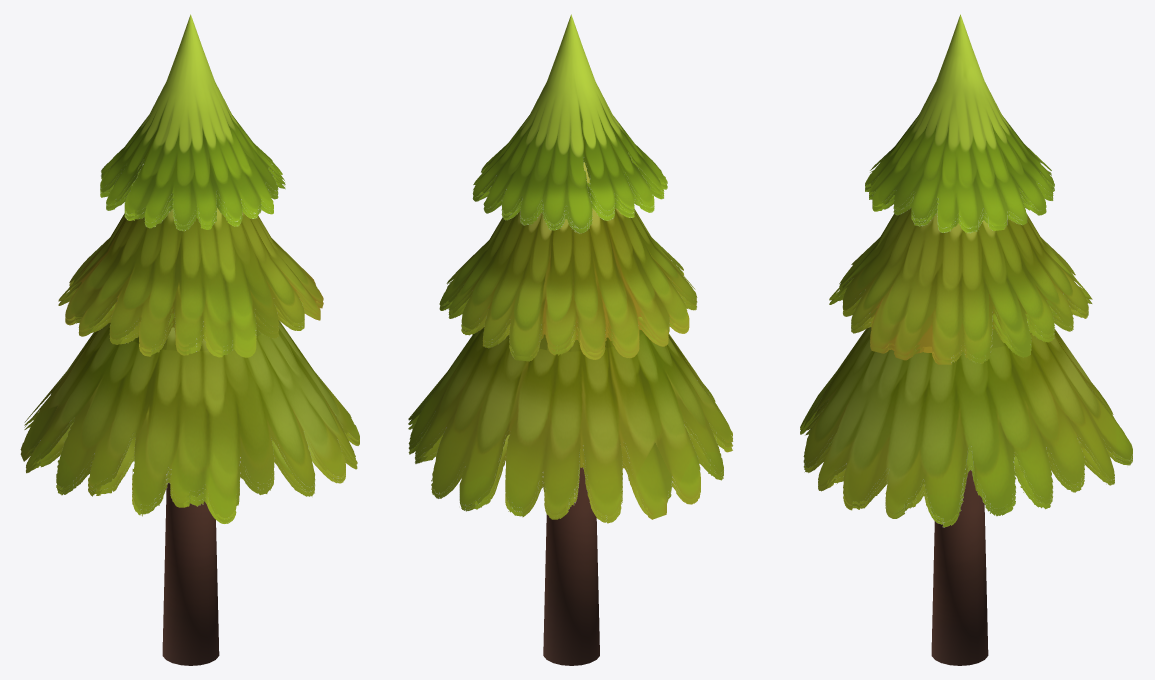
File: PINE TREE FBX.fbx
The picture shows the model from 3 angles, left to right: view 1: azimuth 30°, elevation 25°; view 2: azimuth 150°, elevation 25°; view 3: azimuth 270°, elevation 25°; orthographic projection.
Visible parts, largest first — view 1: Cone001; view 2: Cone001; view 3: Cone001.
Part boxes in pixels (left/top/right/bottom): Cone001: left=20, top=14, right=359, bottom=665; Cone001: left=408, top=14, right=733, bottom=665; Cone001: left=800, top=14, right=1132, bottom=665.
Size of the model in its own units: 27.76 by 55.76 by 28.48.
